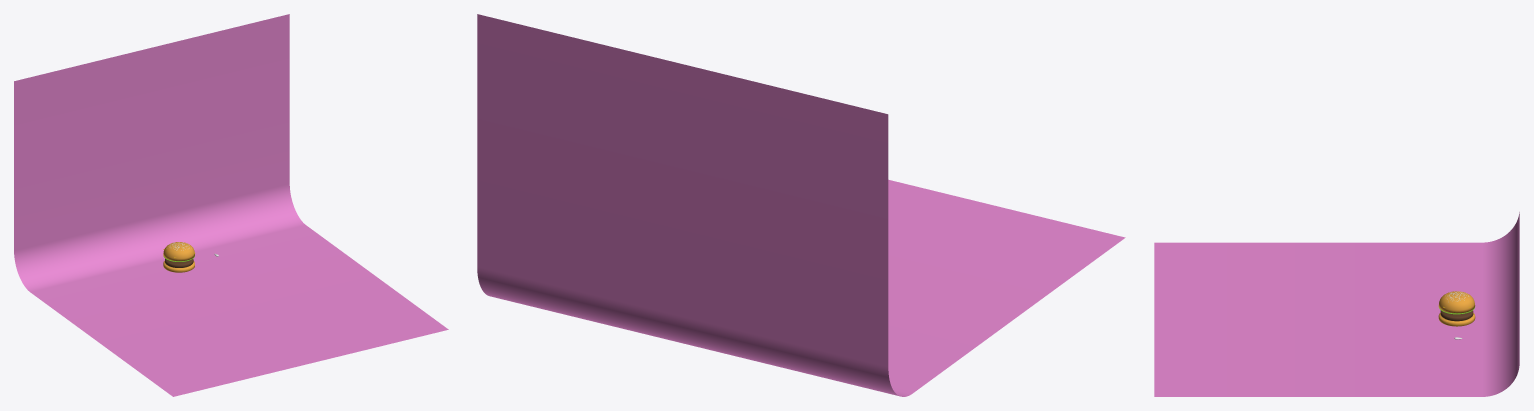
The picture shows the model from 3 angles, left to right: view 1: azimuth 30°, elevation 25°; view 2: azimuth 150°, elevation 25°; view 3: azimuth 270°, elevation 25°; orthographic projection. The views are drawn at different scales.
Visible parts, largest first — view 1: 平面.001, 球.001; view 2: 平面.001; view 3: 平面.001, 球.001.
Part boxes in pixels (x1,y1,x2,y2): 平面.001: [14, 14, 448, 396]; 球.001: [163, 242, 194, 261]; 平面.001: [477, 14, 1125, 396]; 平面.001: [1154, 212, 1519, 396]; 球.001: [1438, 291, 1475, 313].
Size of the model in its own units: 20 by 13.81 by 20.
